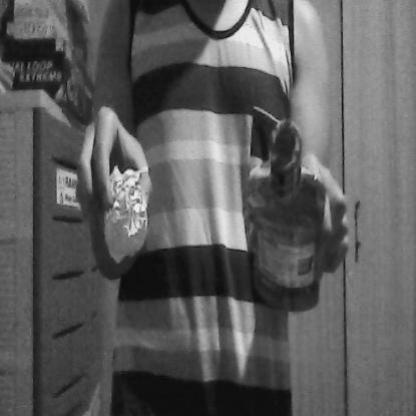Plastic Bottle: (242, 107, 332, 330)
